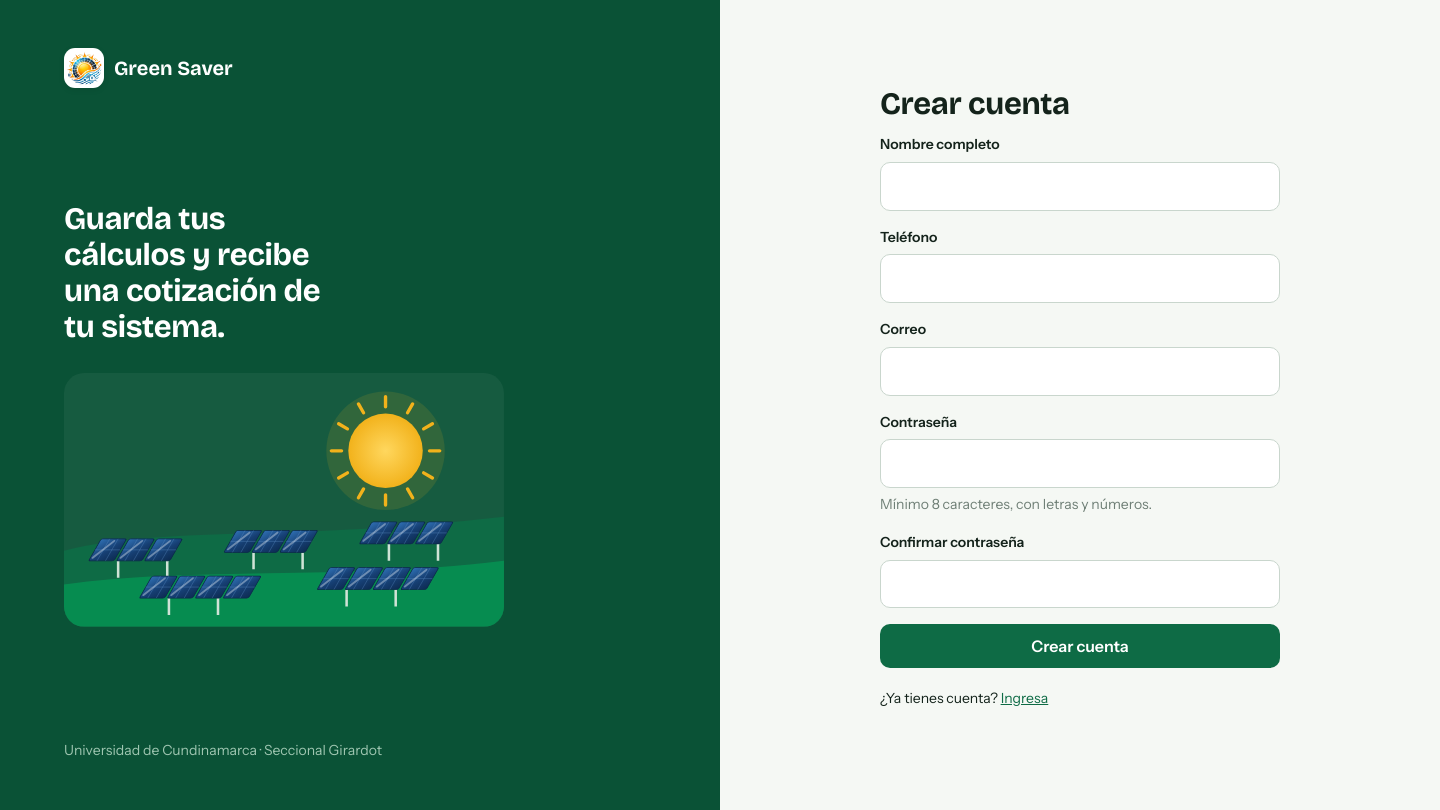
Test case: formularios › el registro exige que las contraseñas coincidan
The width and height of the screenshot is (1440, 810).
In the field labelled "Nombre completo": (1080, 186) [880,162,1280,211], type "Ana Prueba"
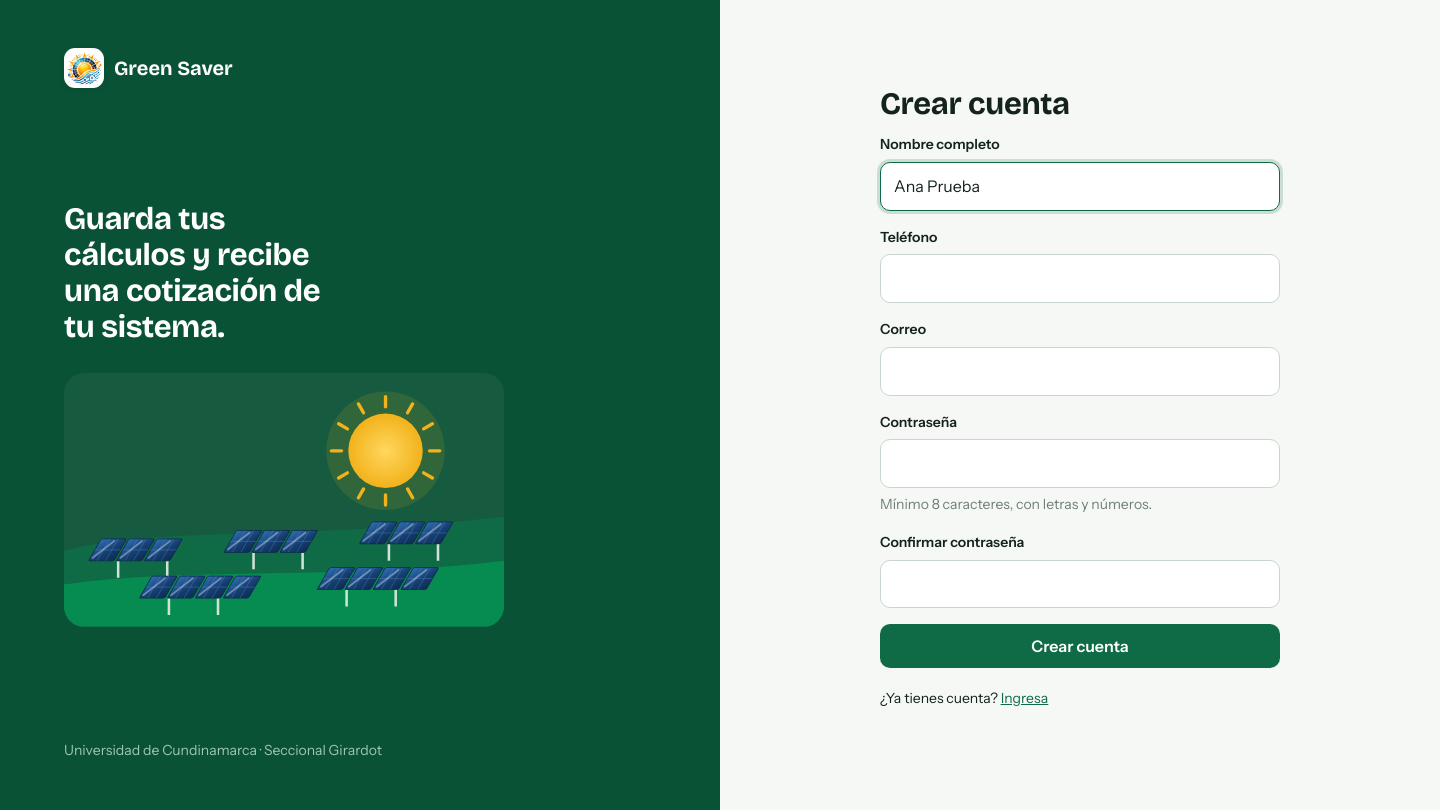
In the field labelled "Teléfono": (1080, 279) [880,254,1280,303], type "3001234567"
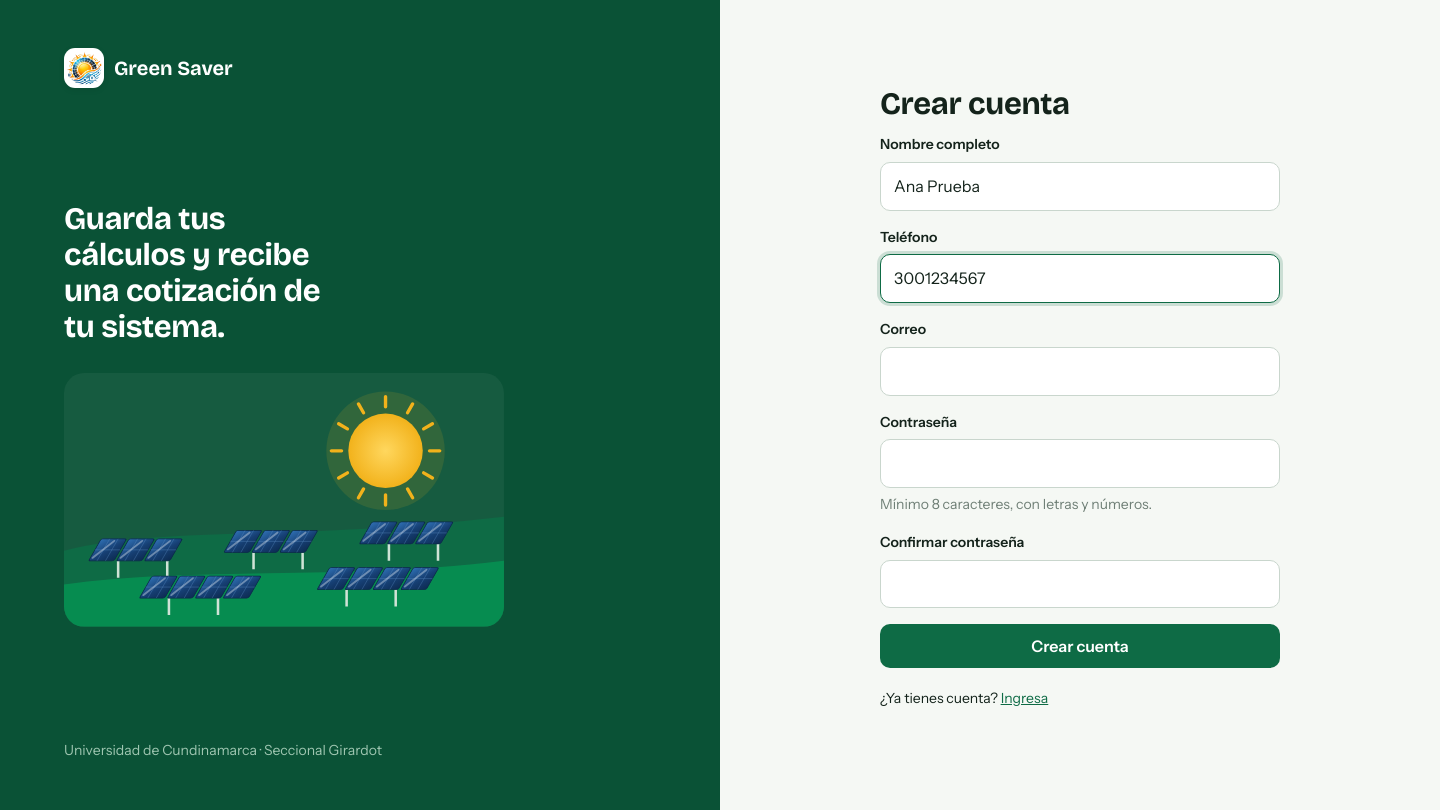
In the field labelled "Correo": (1080, 371) [880,347,1280,396], type "ana@prueba.com"
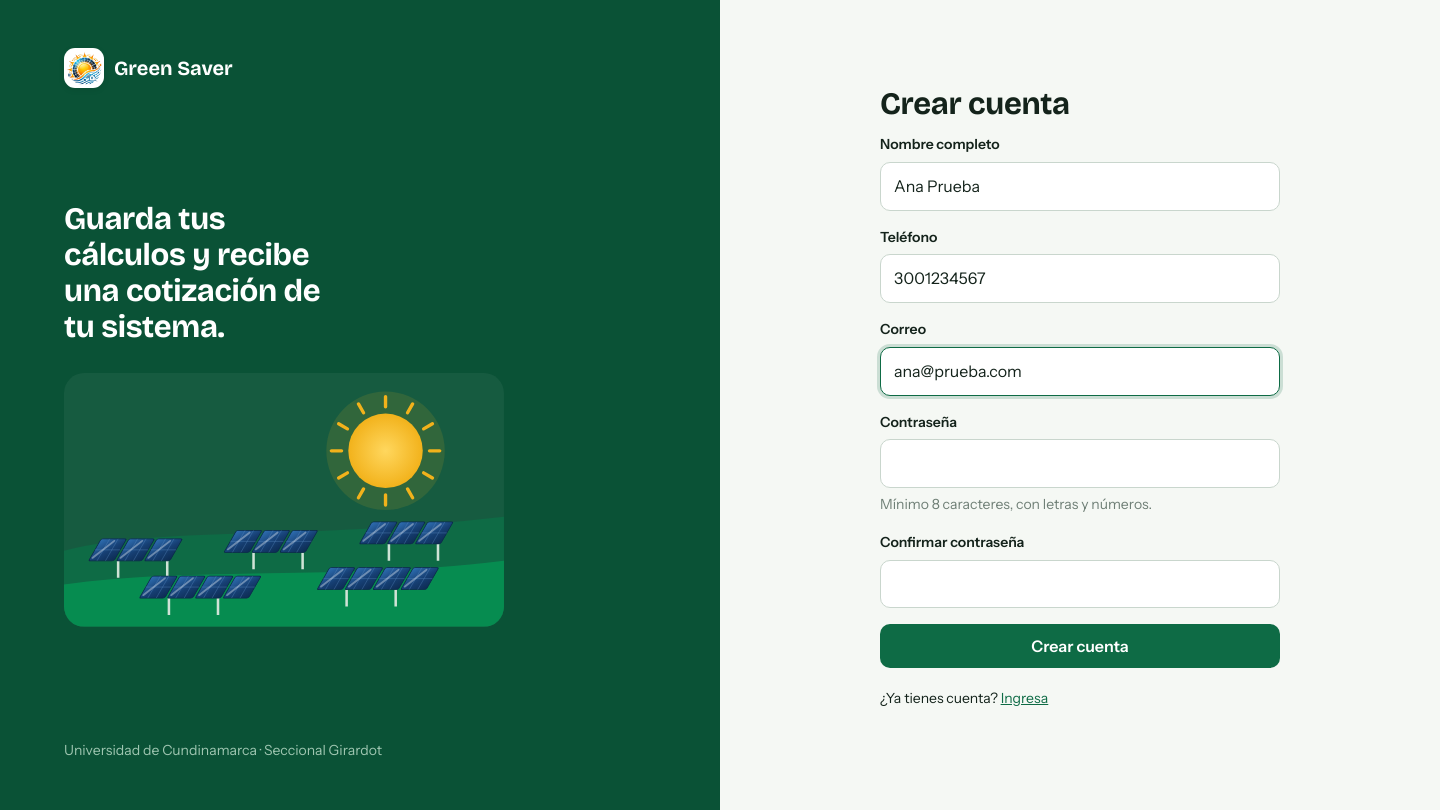
In the password field labelled "Contraseña": (1080, 464) [880,440,1280,488], type "Clave1234"
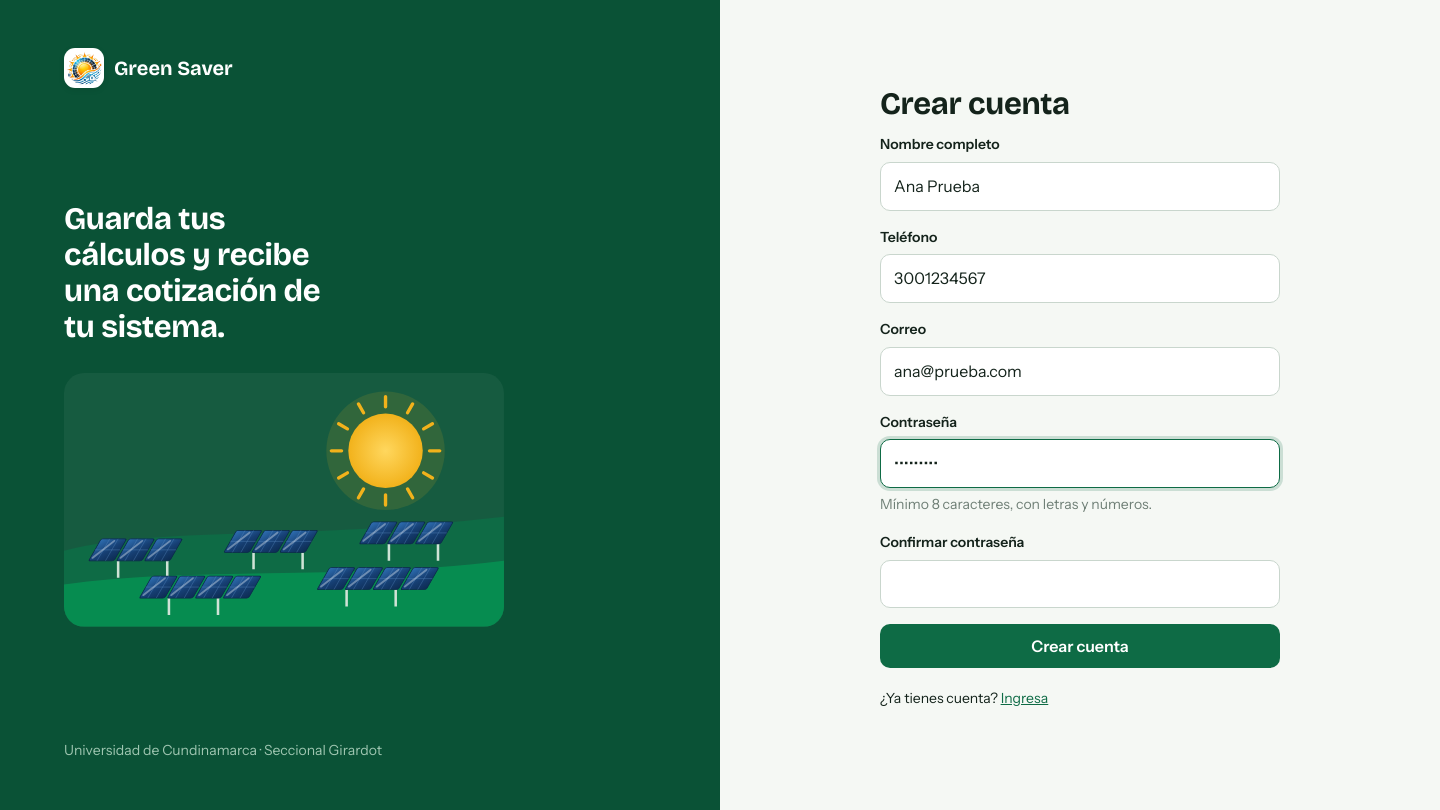
In the password field labelled "Confirmar contraseña": (1080, 584) [880,560,1280,608], type "Clave9999"
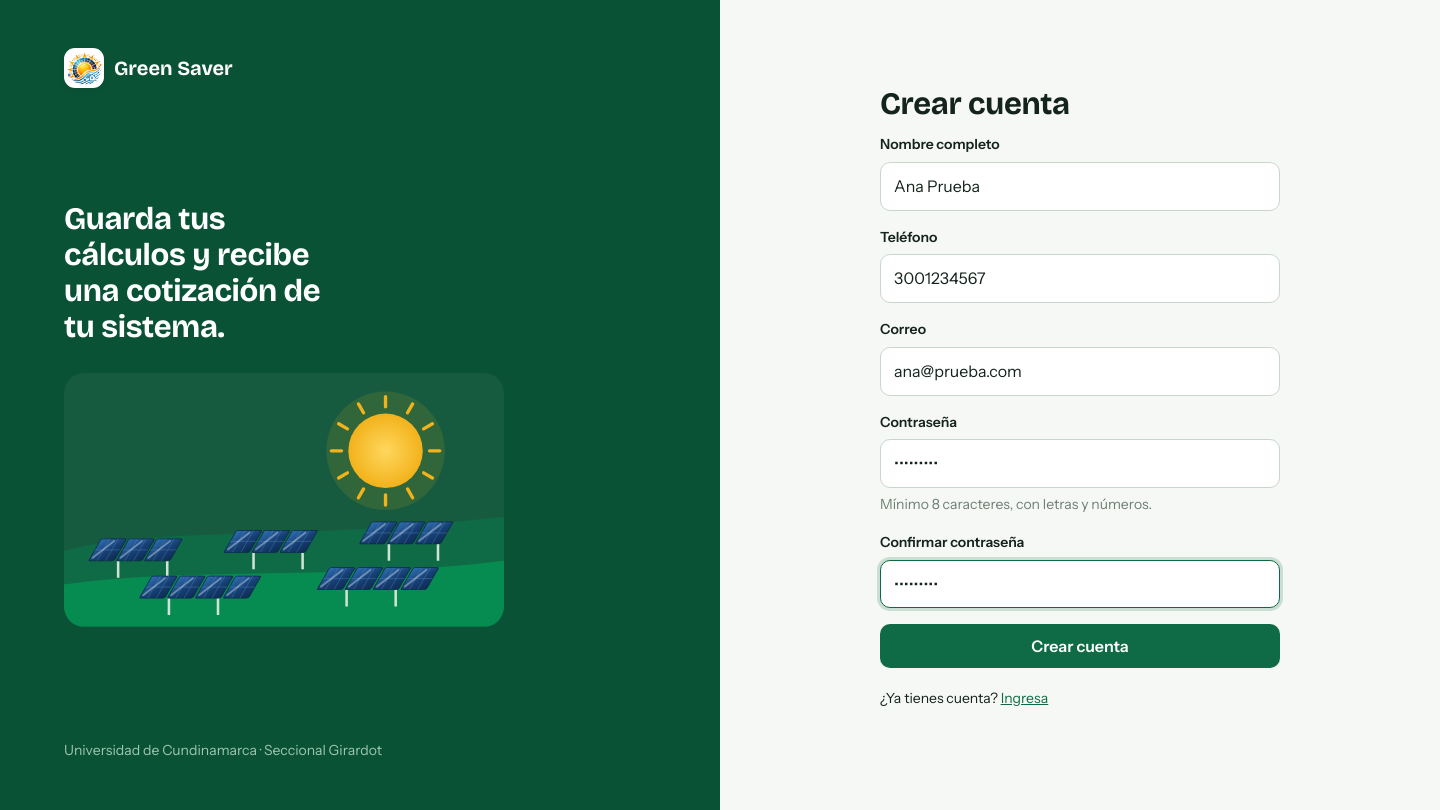
Click the button "Crear cuenta": (1080, 646) [880,624,1280,668]
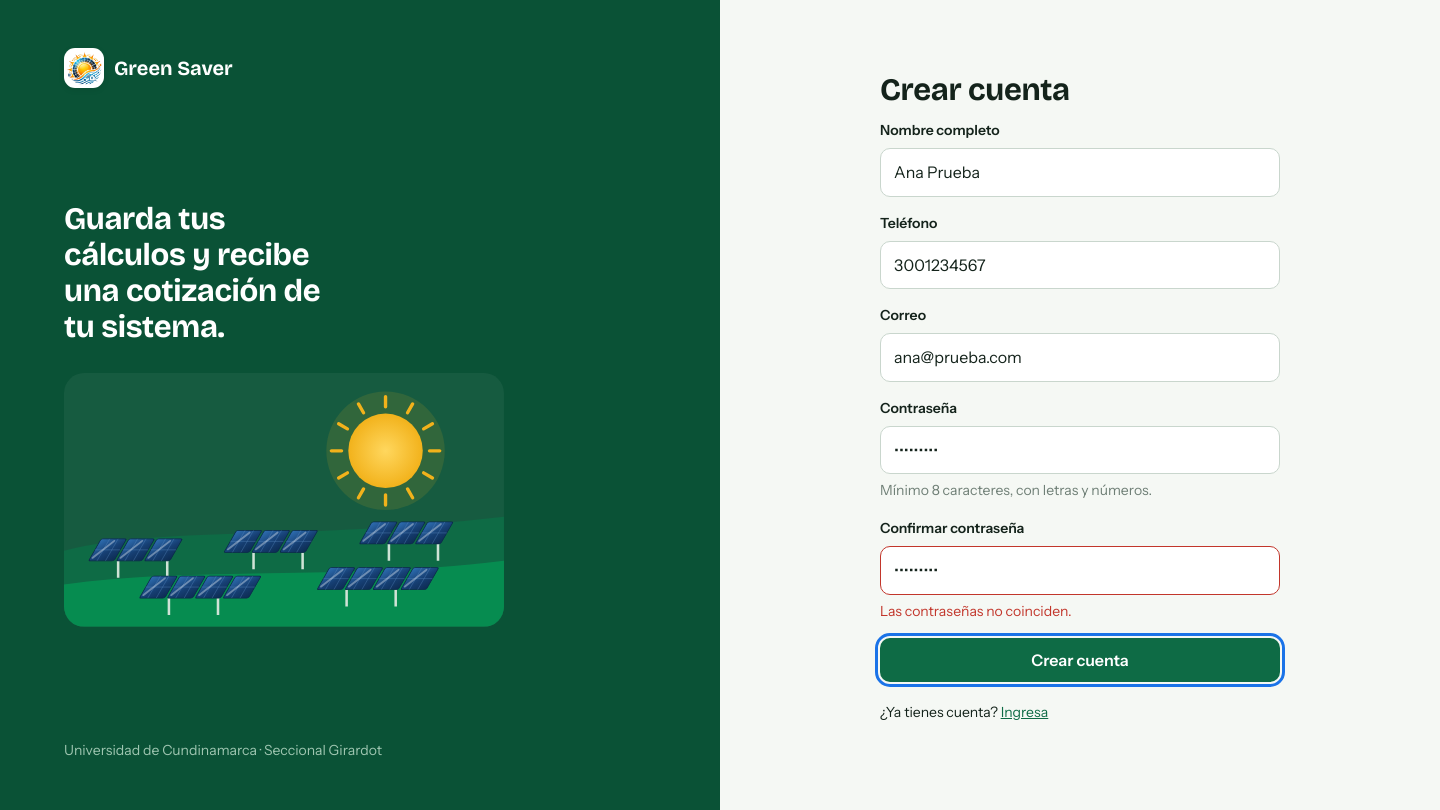
Expected: the text "Las contraseñas no coinciden." is shown, [880,602,1072,620]
